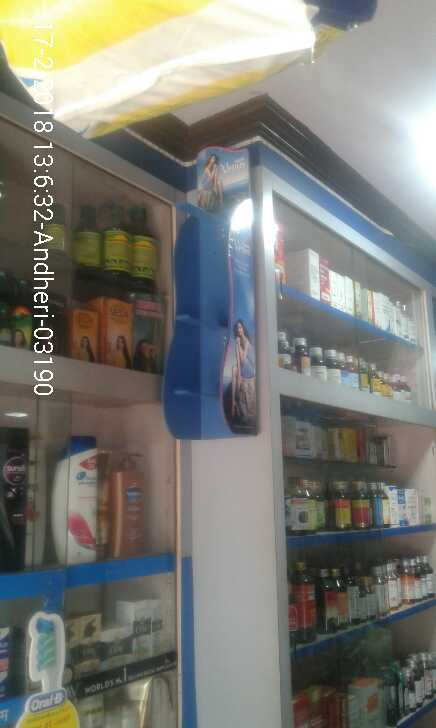beauty: (57, 428, 101, 571)
